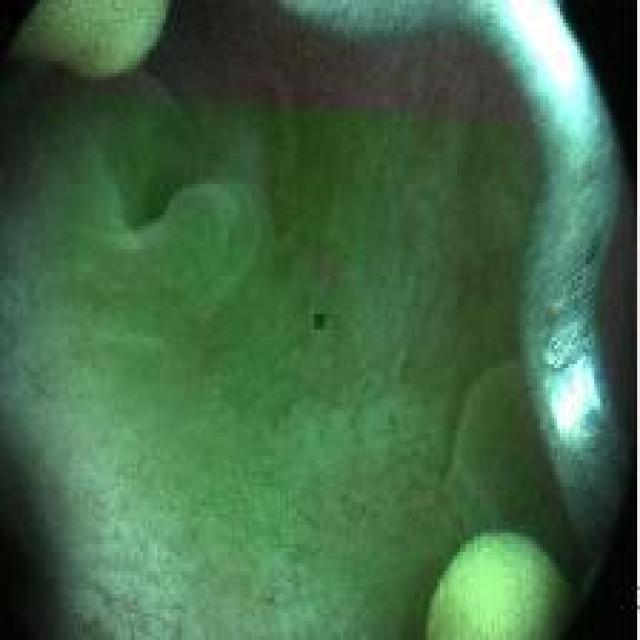color misalignment: (310, 307, 332, 340)
instrument: (474, 9, 635, 559), (281, 6, 569, 71), (425, 530, 579, 635), (9, 5, 168, 76)
specularity: (491, 9, 586, 104), (547, 356, 600, 431)
